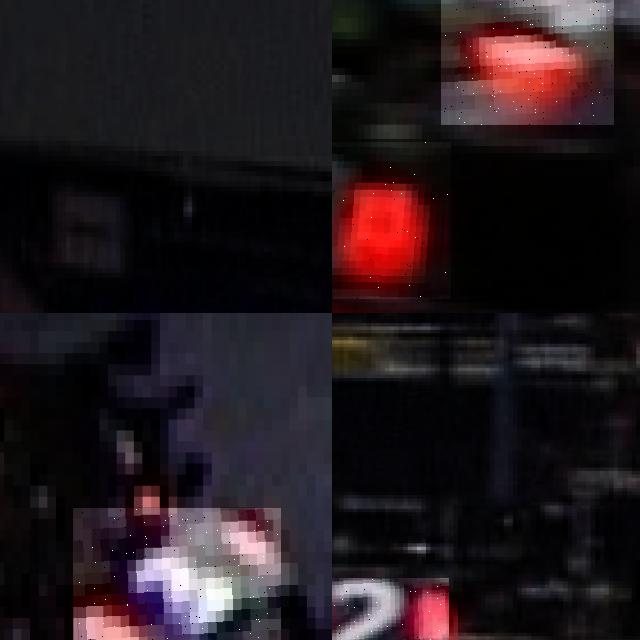R2: (332, 577, 448, 640)
R3: (73, 507, 280, 640), (441, 0, 614, 124), (332, 142, 450, 298)
